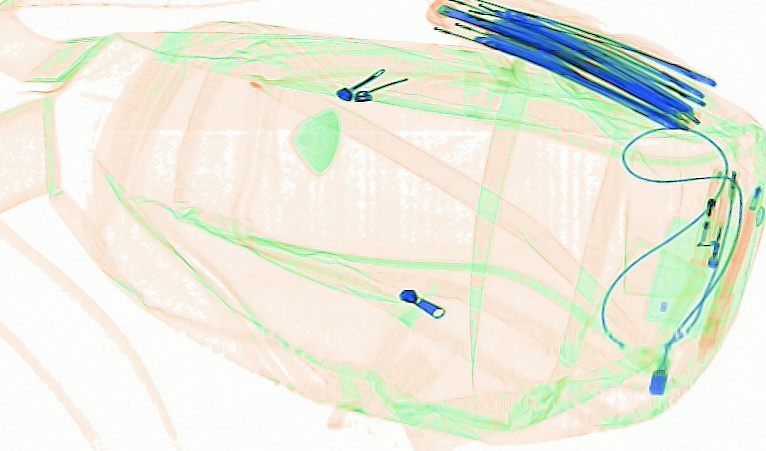lighter: (692, 163, 740, 269)
